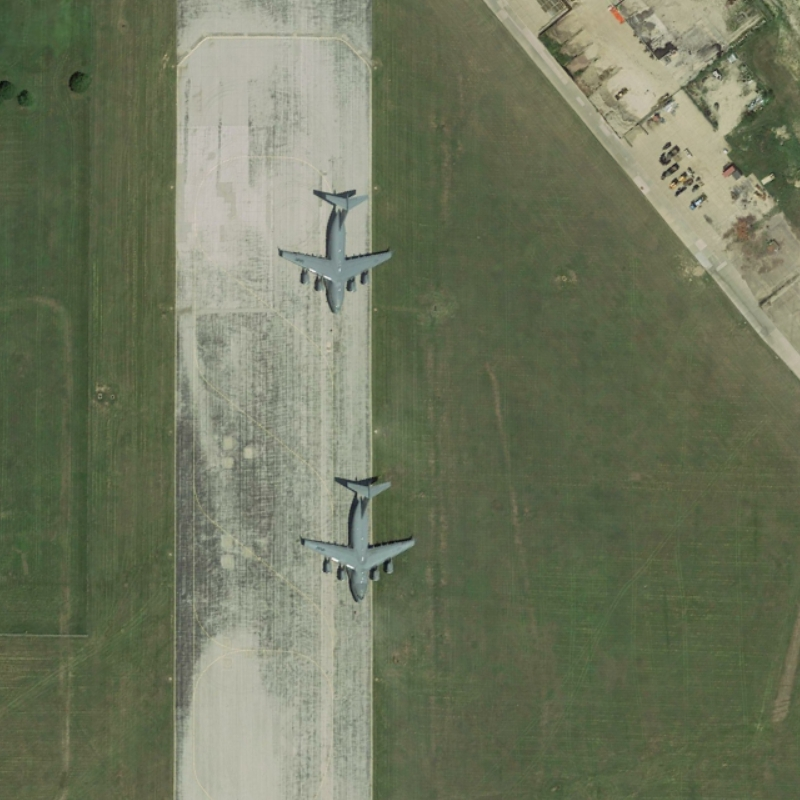A3: (290, 467, 423, 608), (278, 181, 396, 318)
